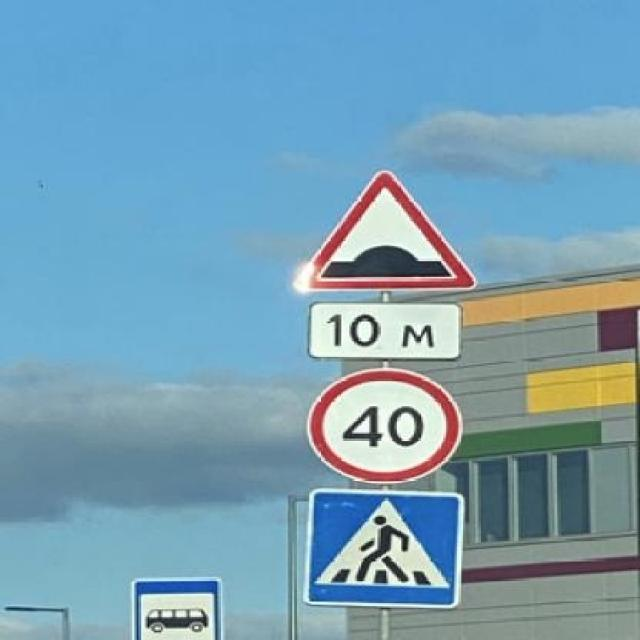forb_speed_over_40: (311, 372, 465, 488)
